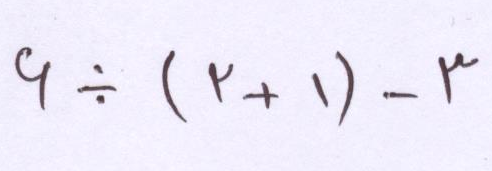character: (15, 47, 50, 110), (438, 52, 477, 102), (162, 50, 187, 123), (335, 51, 355, 126), (77, 64, 115, 103), (208, 62, 234, 105), (242, 82, 278, 110), (312, 73, 328, 106), (383, 91, 420, 103)
